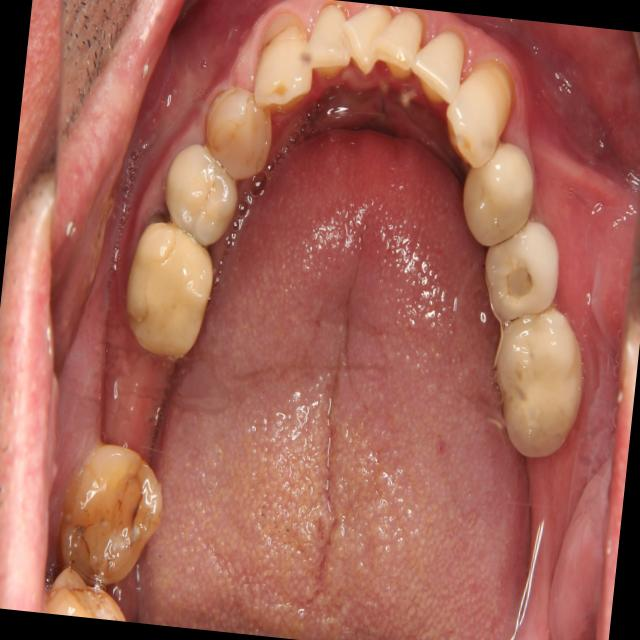tooth: (477, 297, 598, 467), (49, 432, 173, 596), (111, 214, 224, 375), (472, 204, 570, 330), (153, 133, 249, 256), (452, 131, 543, 259), (434, 47, 517, 171), (195, 77, 281, 186), (248, 1, 321, 112), (406, 20, 469, 114), (300, 0, 359, 87), (365, 4, 425, 89), (334, 1, 396, 81)
